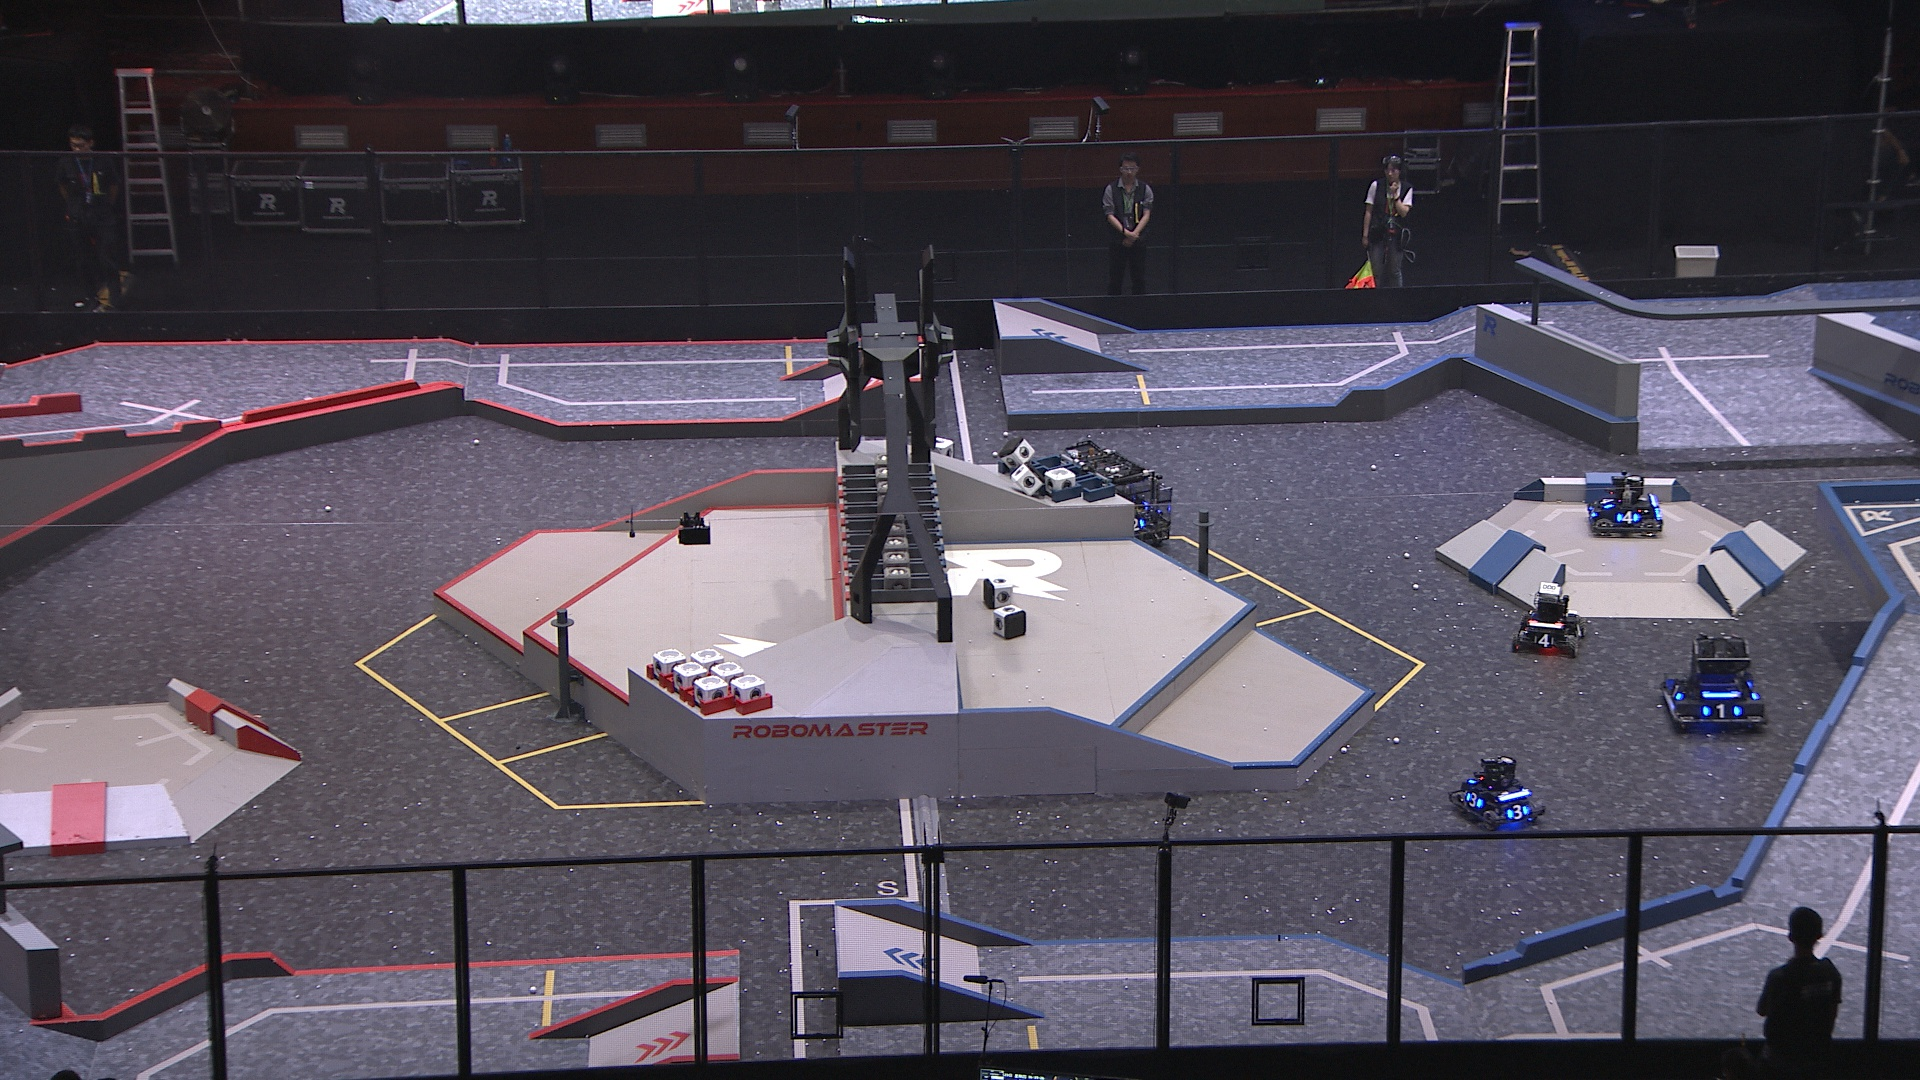armor: (1702, 700, 1745, 721), (1665, 678, 1684, 704), (1506, 803, 1528, 822), (1462, 793, 1482, 811), (1532, 632, 1555, 647), (1618, 510, 1640, 524), (1596, 495, 1614, 509), (1131, 516, 1145, 531), (1572, 624, 1584, 638), (1589, 506, 1596, 526)
car: (1054, 442, 1178, 549), (1659, 632, 1770, 735), (1452, 757, 1543, 832), (1582, 471, 1665, 538), (1513, 583, 1585, 659)
